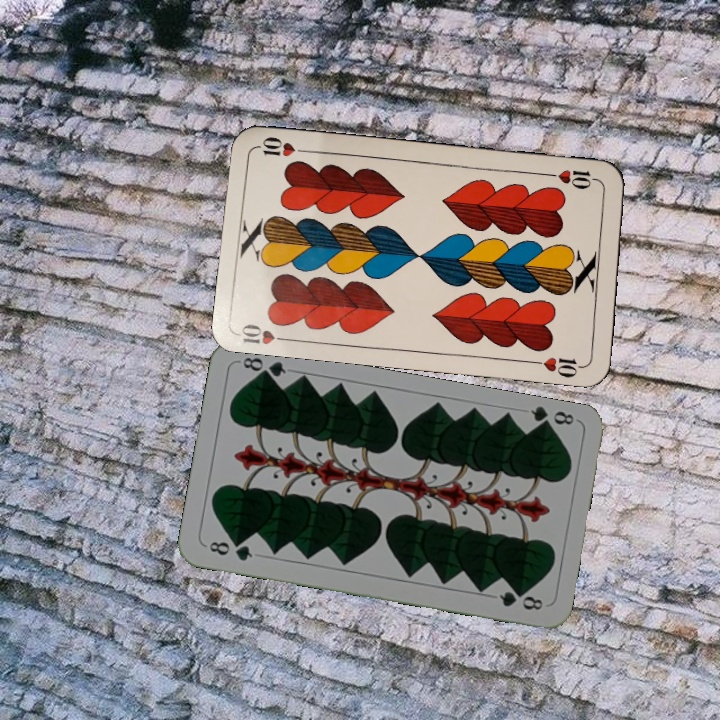G8: (526, 403, 577, 434), (205, 537, 255, 564)
H10: (236, 320, 295, 347), (543, 166, 602, 192)
